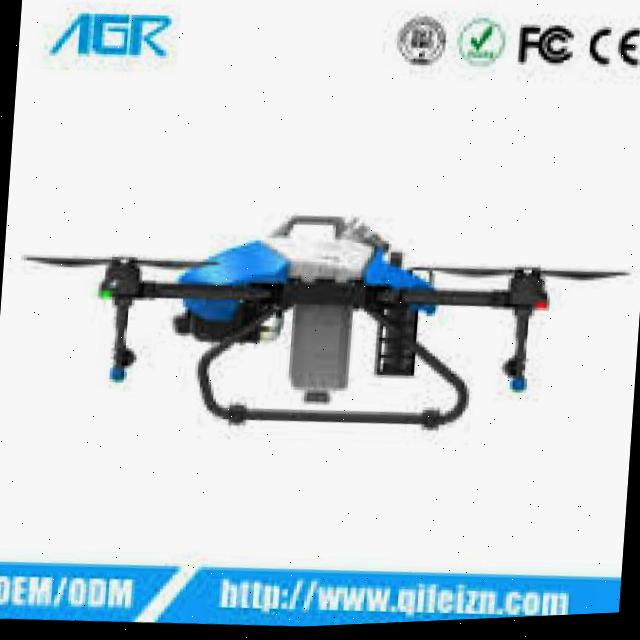drone: (26, 167, 622, 484)
